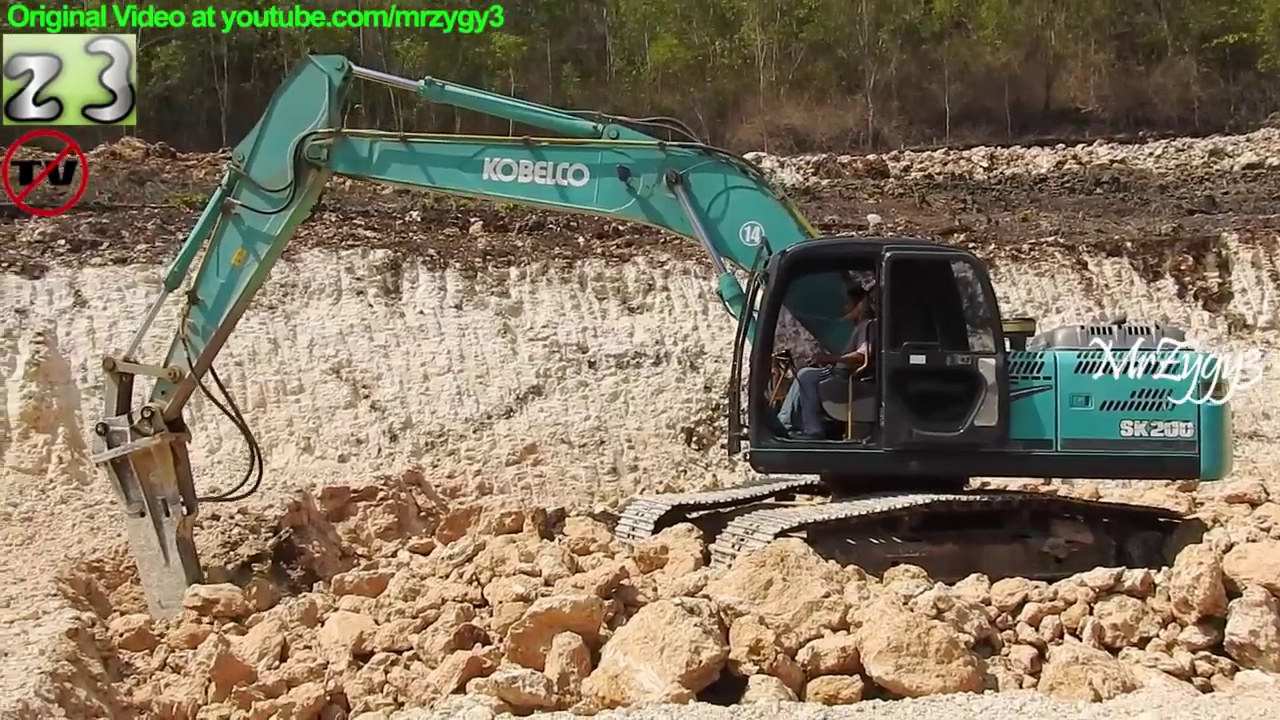excavator breaker: (86, 45, 1240, 628)
